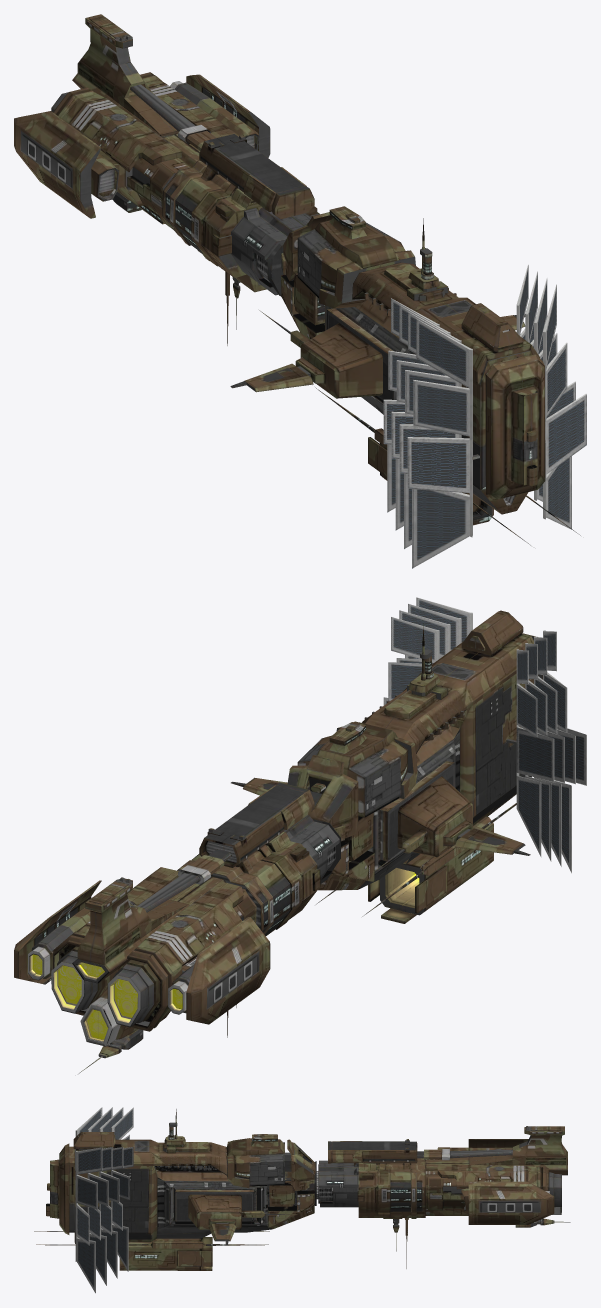
The model's file is 72811_lite.glb.
The picture shows the model from 3 angles, top to bottom: view 1: azimuth 30°, elevation 25°; view 2: azimuth 150°, elevation 25°; view 3: azimuth 270°, elevation 25°; orthographic projection. The views are drawn at different scales.
Visible parts, largest first — view 1: MBc1_TShape1.001, MBc1_TShape1.005; view 2: MBc1_TShape1.001, MBc1_TShape1.005, MBc1_TShape1.002; view 3: MBc1_TShape1.001, MBc1_TShape1.005.
Boxes of the visible parts, box(x1,y1,x2,y2) form: MBc1_TShape1.001: box(14, 14, 580, 545); MBc1_TShape1.005: box(383, 264, 586, 568); MBc1_TShape1.001: box(14, 610, 542, 1073); MBc1_TShape1.005: box(383, 597, 586, 873); MBc1_TShape1.002: box(28, 868, 419, 1046); MBc1_TShape1.001: box(34, 1109, 570, 1270); MBc1_TShape1.005: box(75, 1107, 133, 1293).
Size of the model in its own units: 1.82 by 1.64 by 5.14.
Materials: 3 (3 with a texture image).
